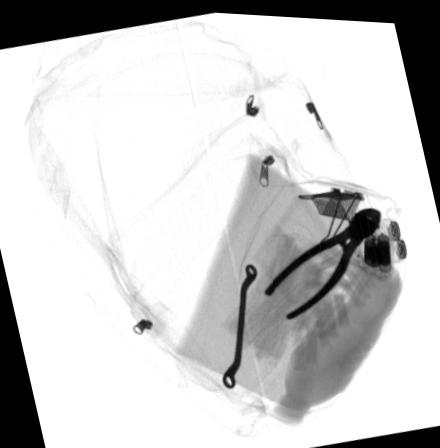Pliers: (260, 204, 378, 318)
Wrench: (220, 261, 255, 386)
